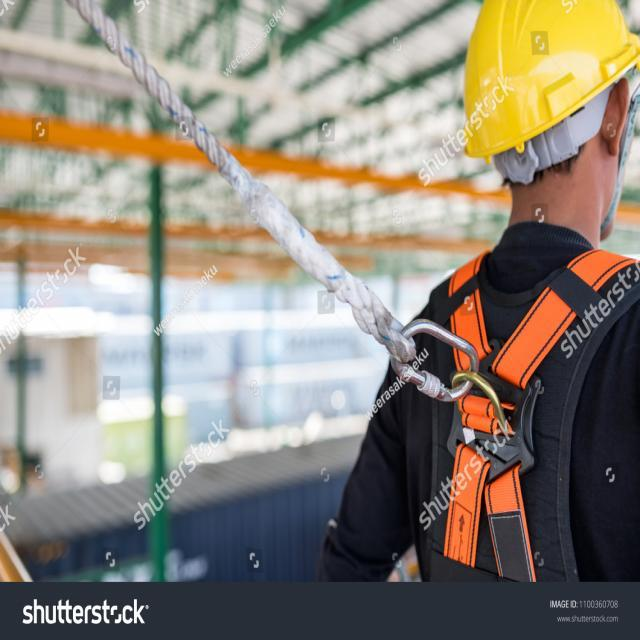belt: (429, 240, 640, 594)
